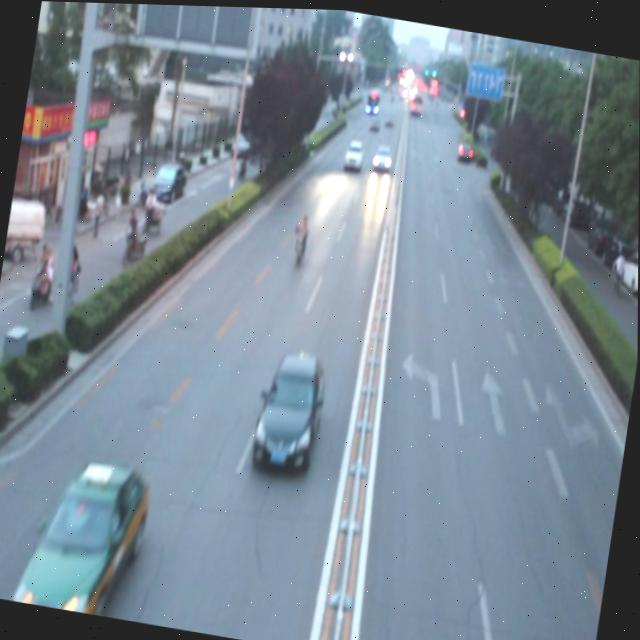car: (15, 445, 155, 621), (246, 344, 331, 476)
